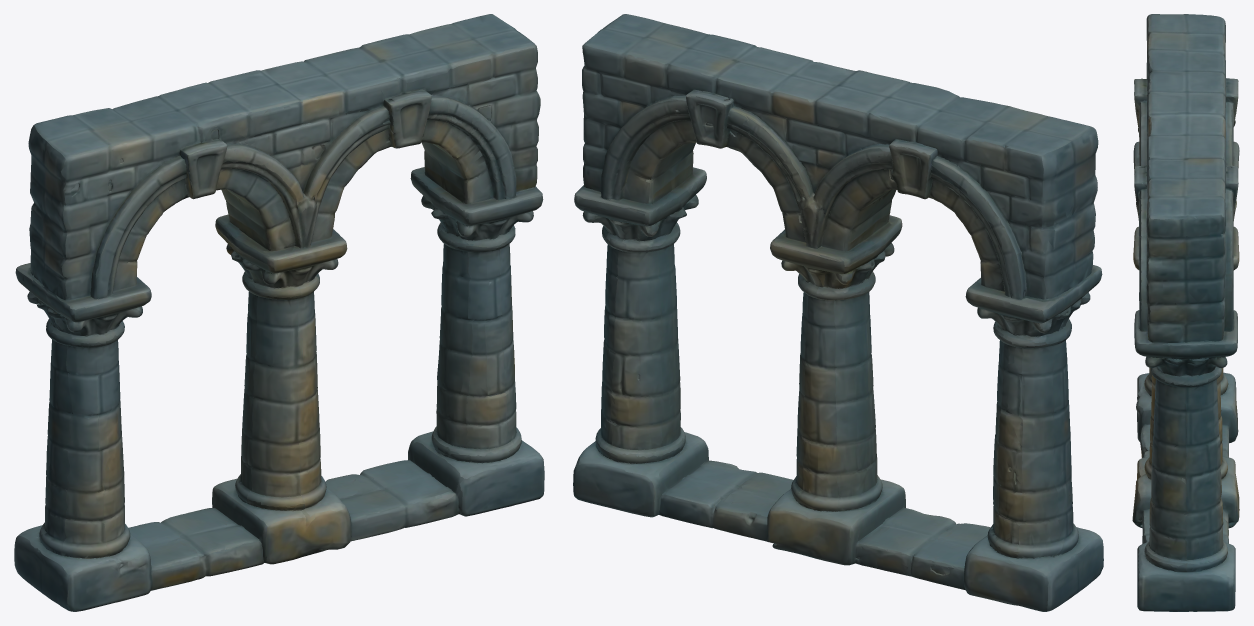
File: archway.glb
3 views of the same model, side by side, from view 1: azimuth 30°, elevation 25°; view 2: azimuth 150°, elevation 25°; view 3: azimuth 270°, elevation 25° (orthographic). The views are drawn at different scales.
Visible parts, largest first — view 1: geometry_0; view 2: geometry_0; view 3: geometry_0.
Part boxes in pixels (<box>): geometry_0: <box>14,14,544,611</box>; geometry_0: <box>573,14,1103,611</box>; geometry_0: <box>1132,14,1239,611</box>.
Size of the model in its own units: 0.3 by 0.2718 by 0.0658.
1 material, 1 textured.
